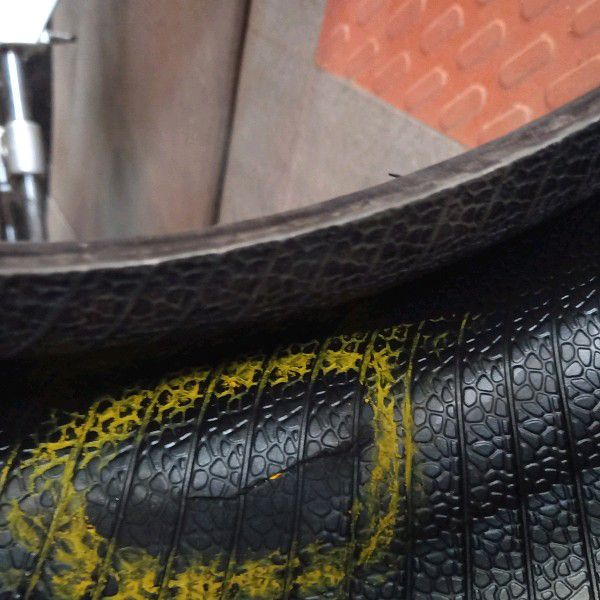CBU: (124, 431, 377, 537)
